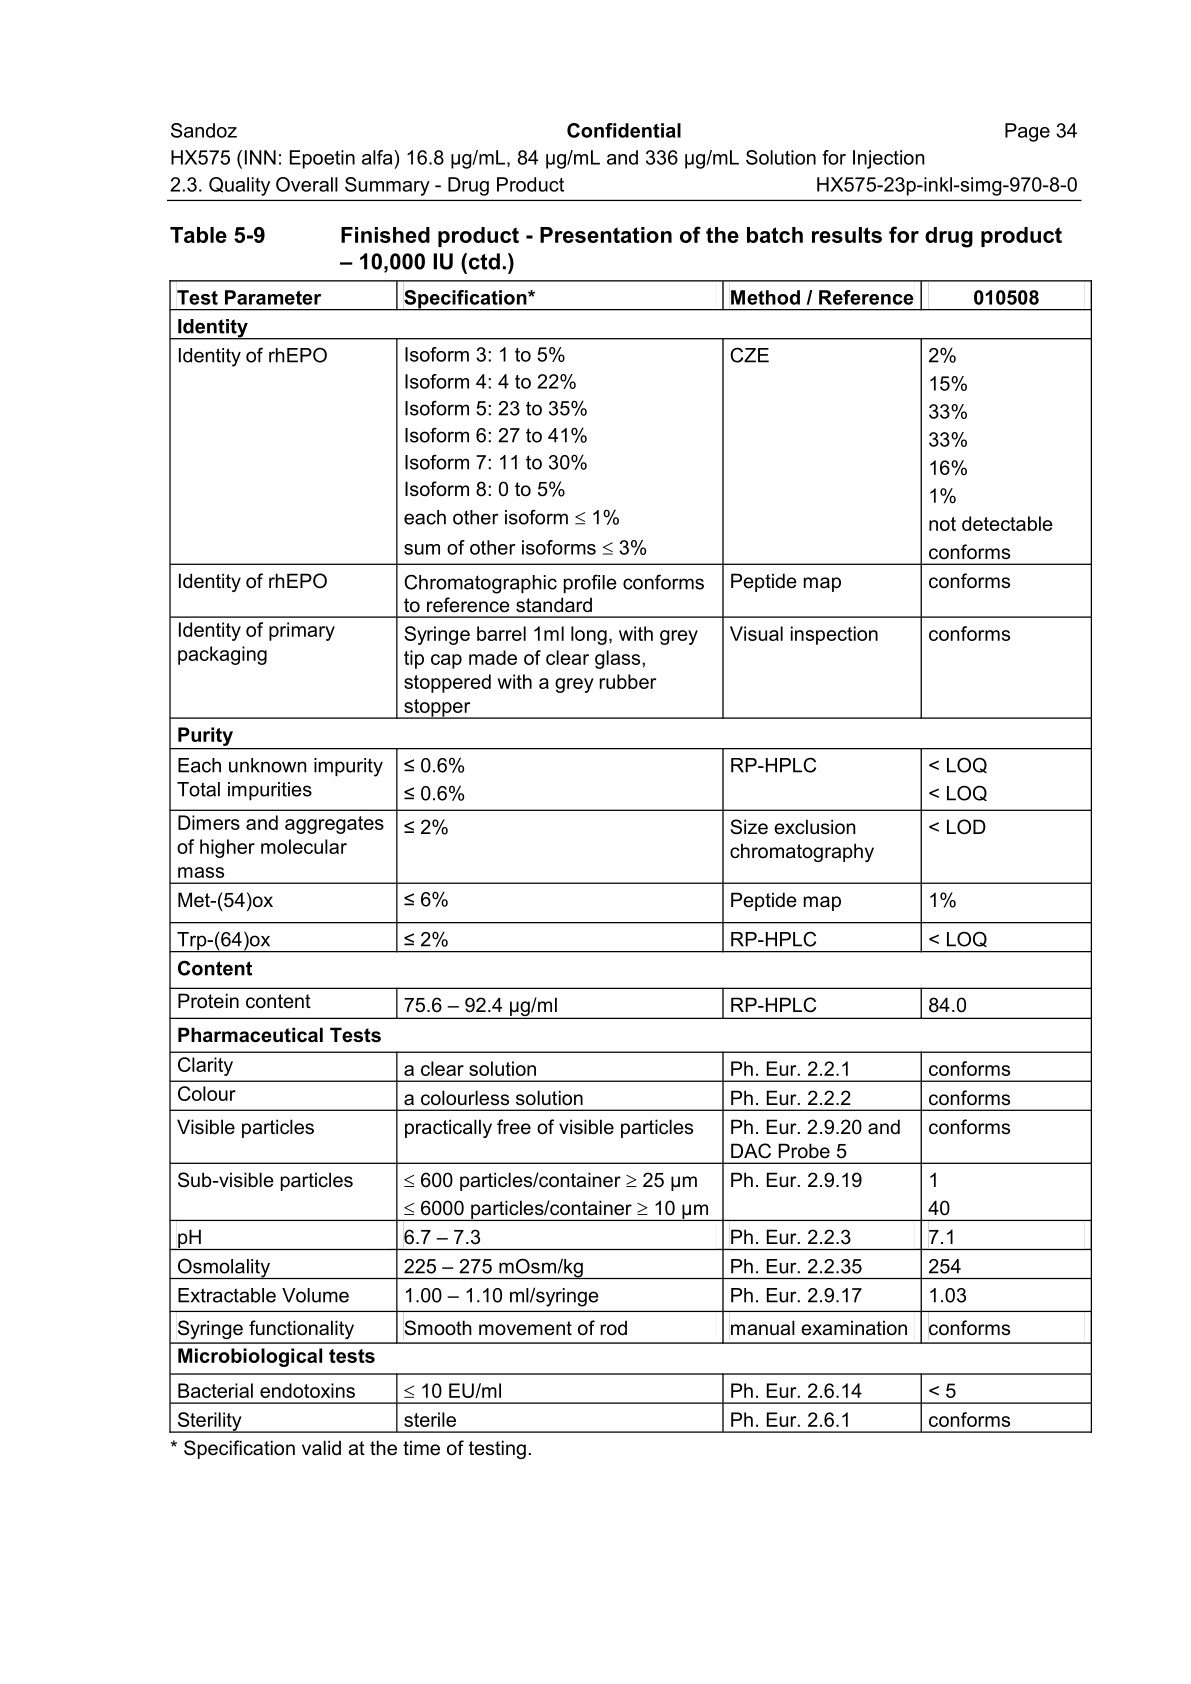merged_cells: (168, 278, 1093, 1433)
